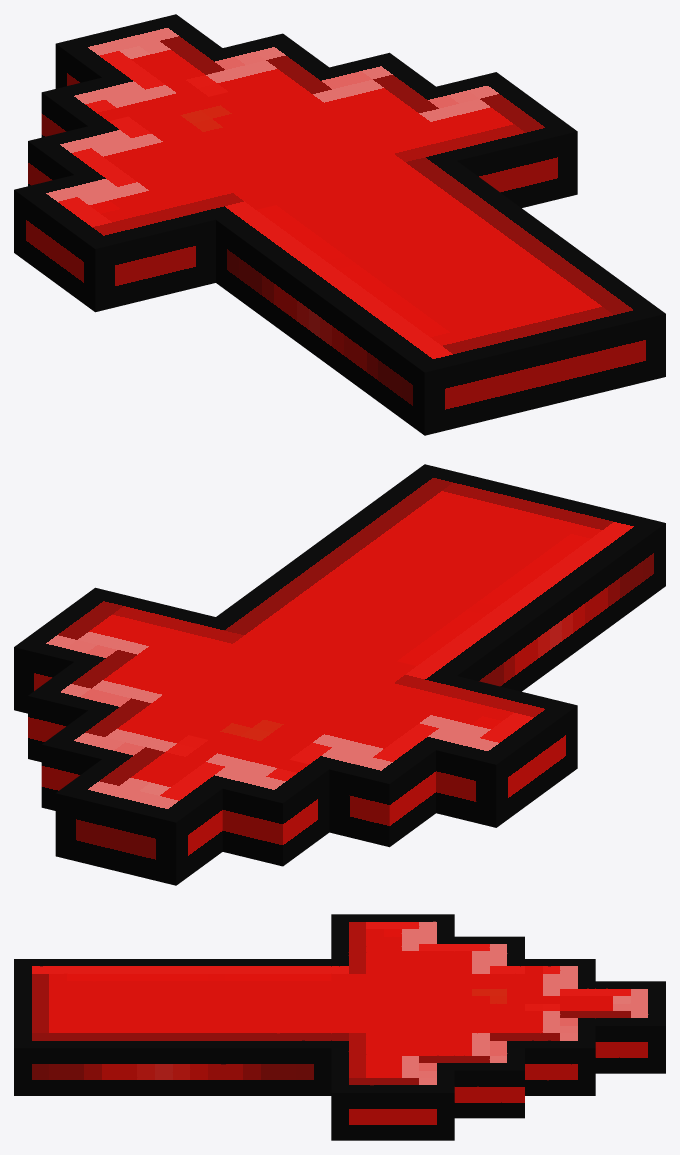
Rendered from DamageZone #612424.fbx.
3 views of the same model, one above another, from view 1: azimuth 30°, elevation 25°; view 2: azimuth 150°, elevation 25°; view 3: azimuth 270°, elevation 25° (orthographic). The views are drawn at different scales.
Parts seen in each view (by area): view 1: DamageZone; view 2: DamageZone; view 3: DamageZone.
Boxes of the visible parts, box(x1,y1,x2,y2) form: DamageZone: box(14, 14, 665, 435); DamageZone: box(14, 464, 665, 885); DamageZone: box(14, 914, 665, 1140).
Size of the model in its own units: 0.375 by 0.0469 by 0.5781.
Materials: 1 (1 with a texture image).
